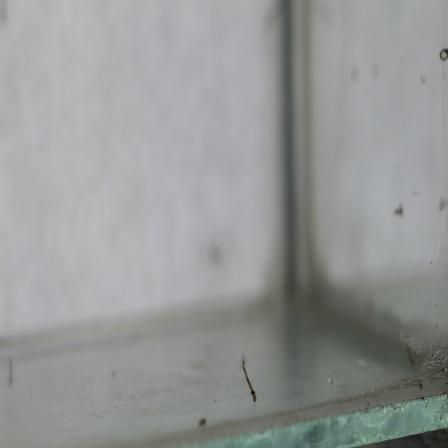Jentik-Nyamuk: (237, 356, 261, 408)
